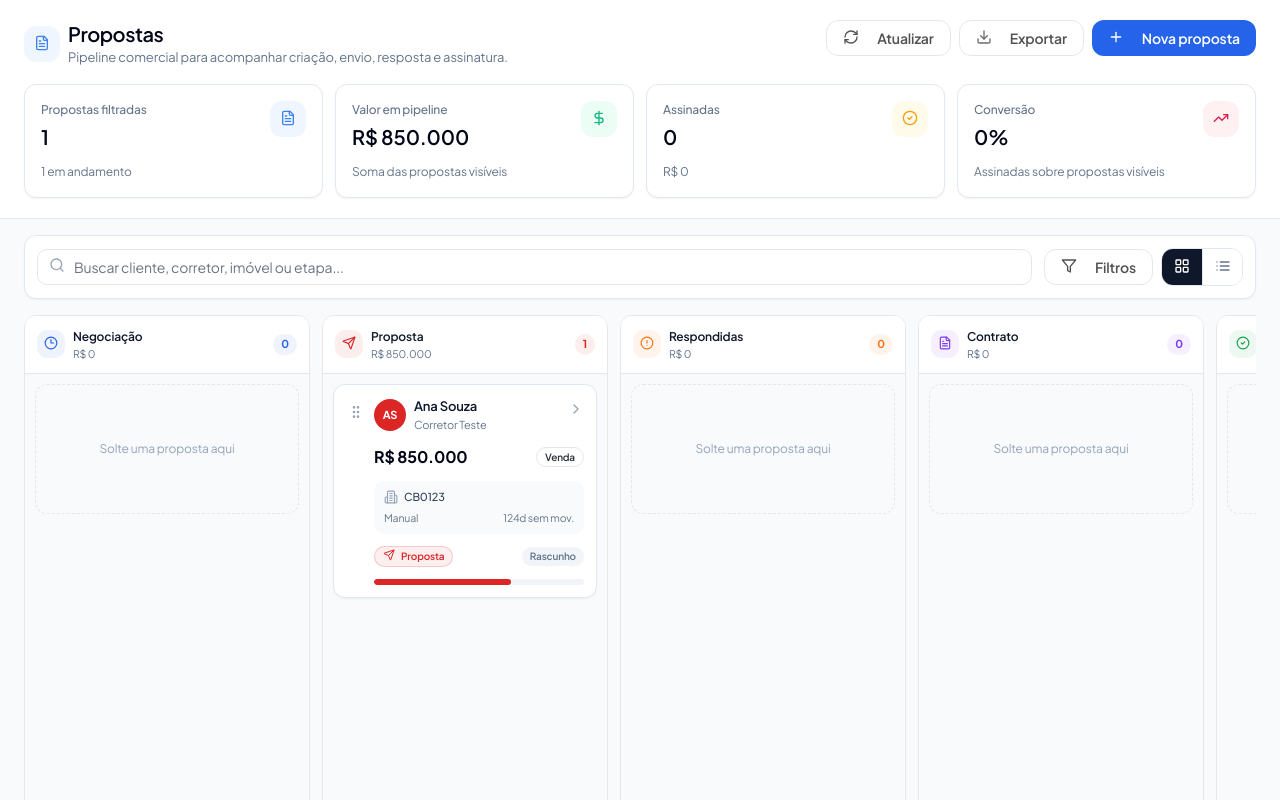
Scenario: PropostaPage — abrir e fechar dialogs › a aba Certidões mostra o checklist de documentos para venda
What coordinates should you click on to do the following:
click the text "Ana Souza"
I would click on:
 (450, 407)
Its box is [414,397,486,417].
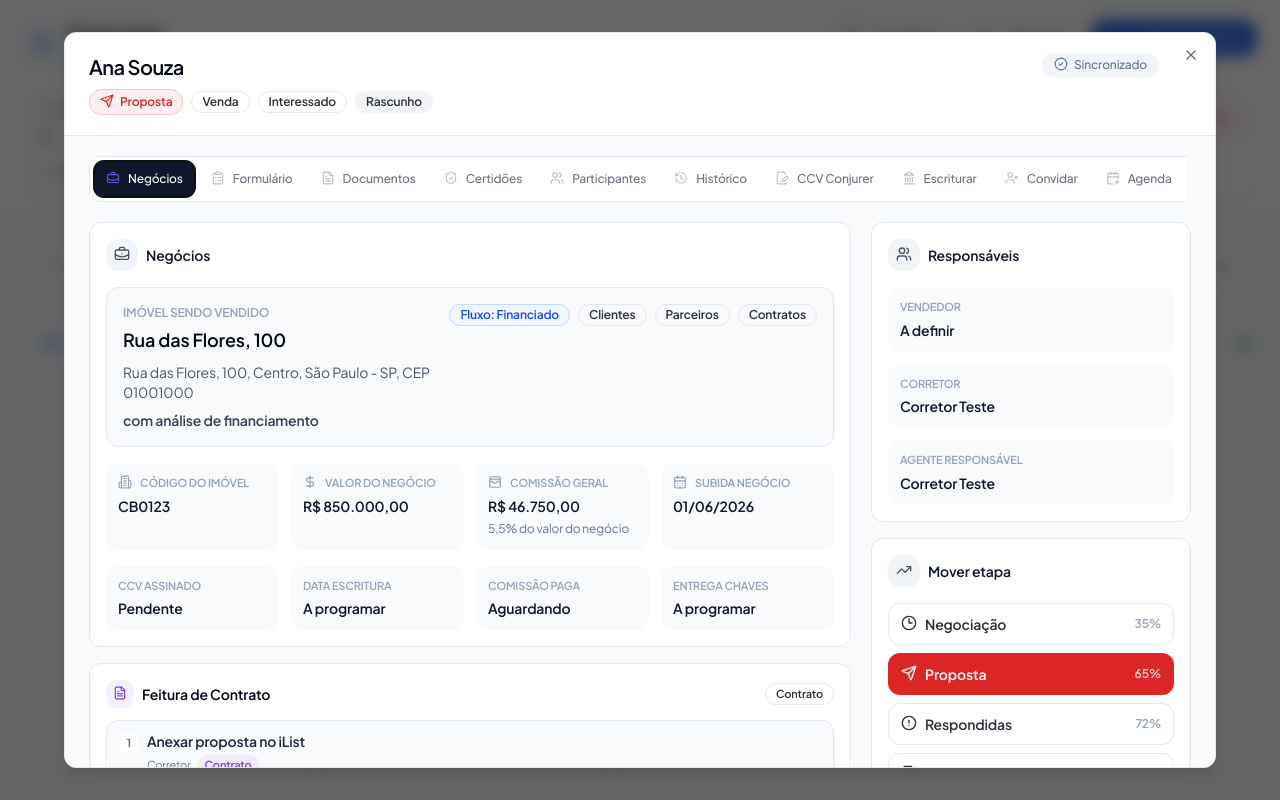
What coordinates should you click on to do the following:
click the tab "Certidões"
I would click on:
 (483, 179)
Its box is [432,161,534,197].
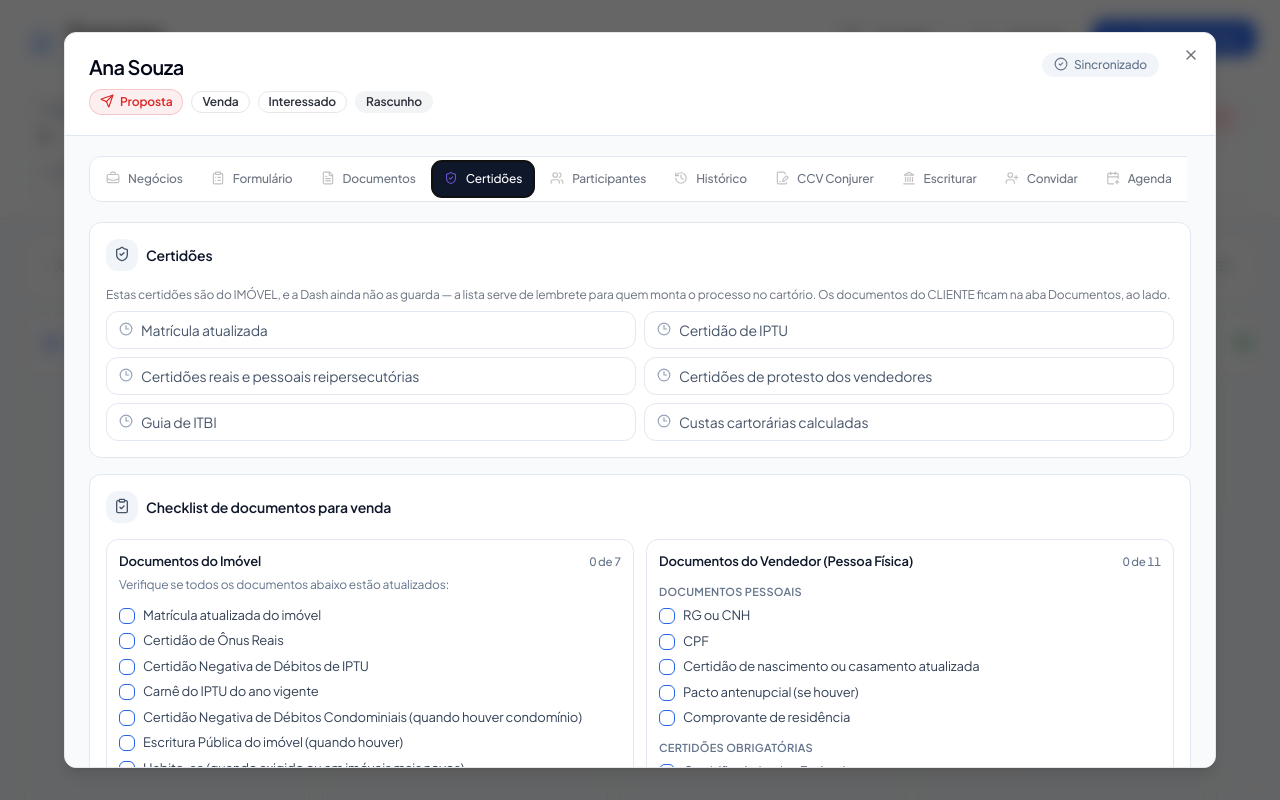
expect the heading "Checklist de documentos para venda" is shown: met, box [146,497,391,517]
expect the text "Matrícula atualizada do imóvel" is shown: met, box [143,606,321,625]
